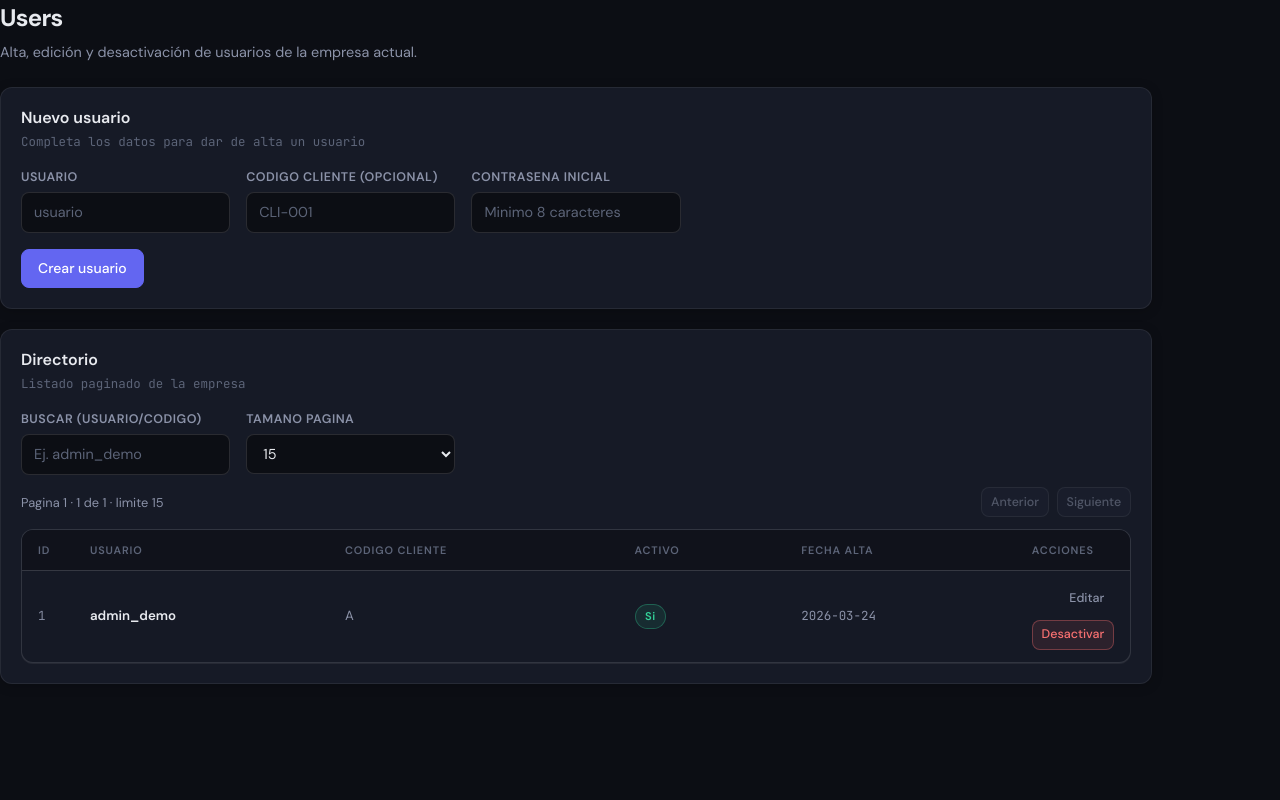
UsersPage CRUD UX › muestra confirmacion para desactivar usuario
This screenshot has width=1280, height=800.
Expected: the text "admin_demo" is shown, x1=90 y1=607 x2=176 y2=624
Click the button "Desactivar" at (1073, 635), box x1=1032 y1=620 x2=1114 y2=650
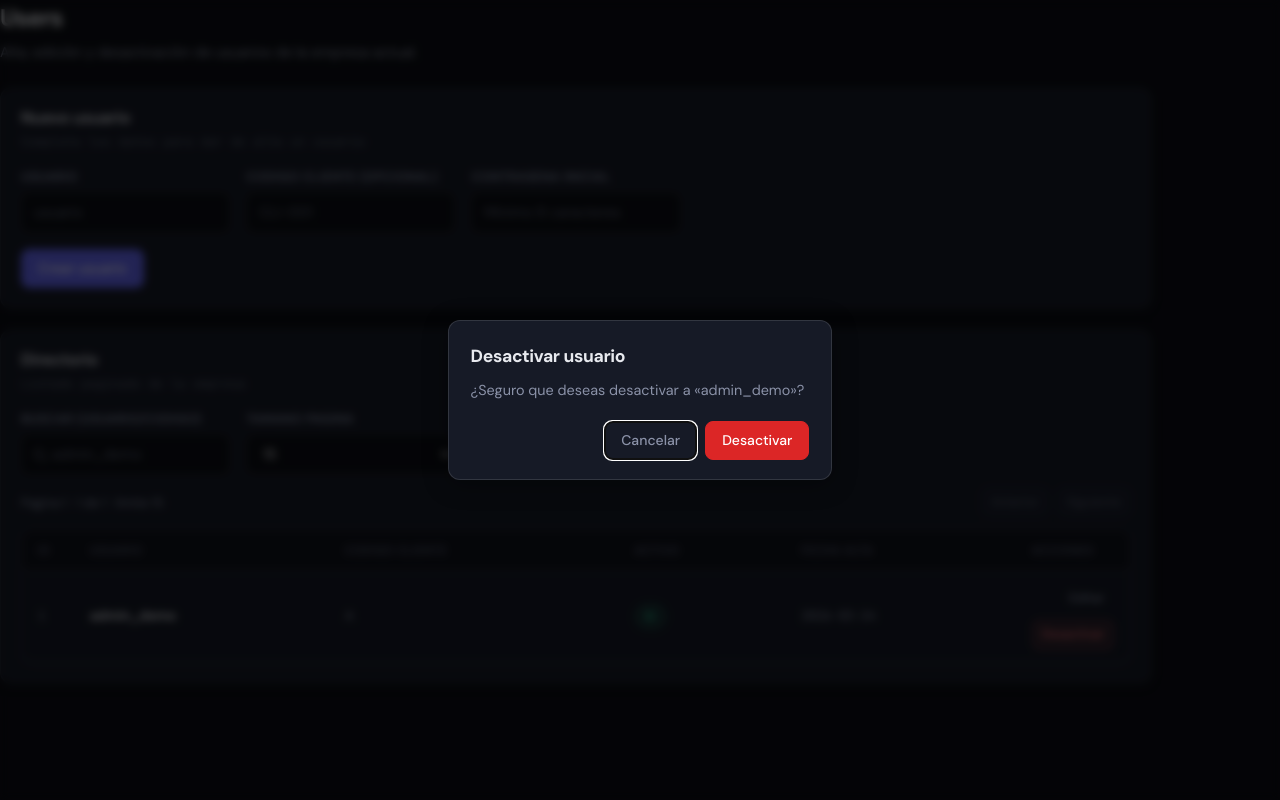
Expected: the dialog is shown, x1=448 y1=320 x2=832 y2=480
Expected: the text "¿Seguro que deseas desactivar a «admin_demo»?" is shown, x1=471 y1=380 x2=809 y2=401
